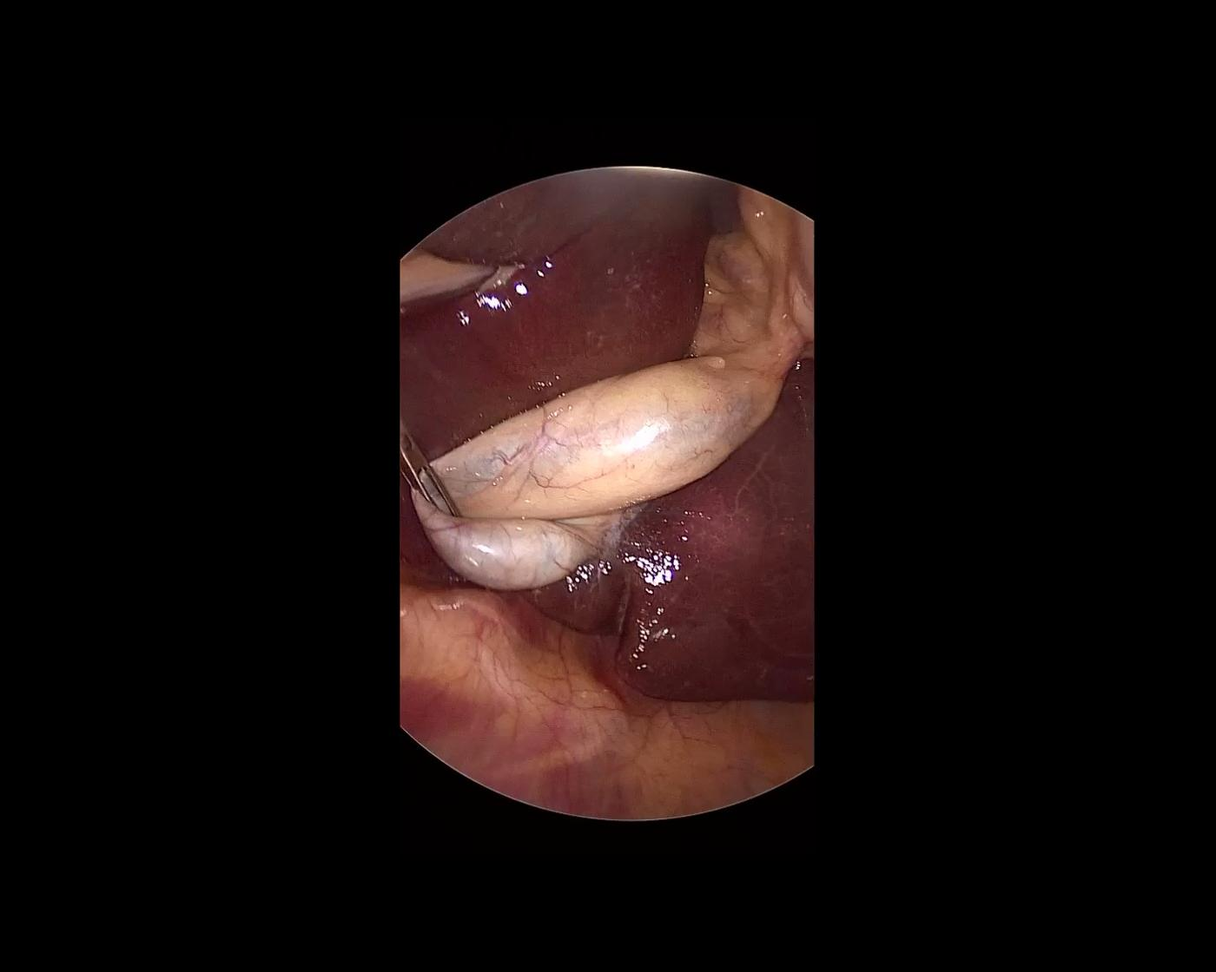Forceps: (376, 411, 464, 529)
Gallbladder: (397, 313, 824, 620)
Liver: (339, 107, 791, 464), (524, 354, 814, 703)
